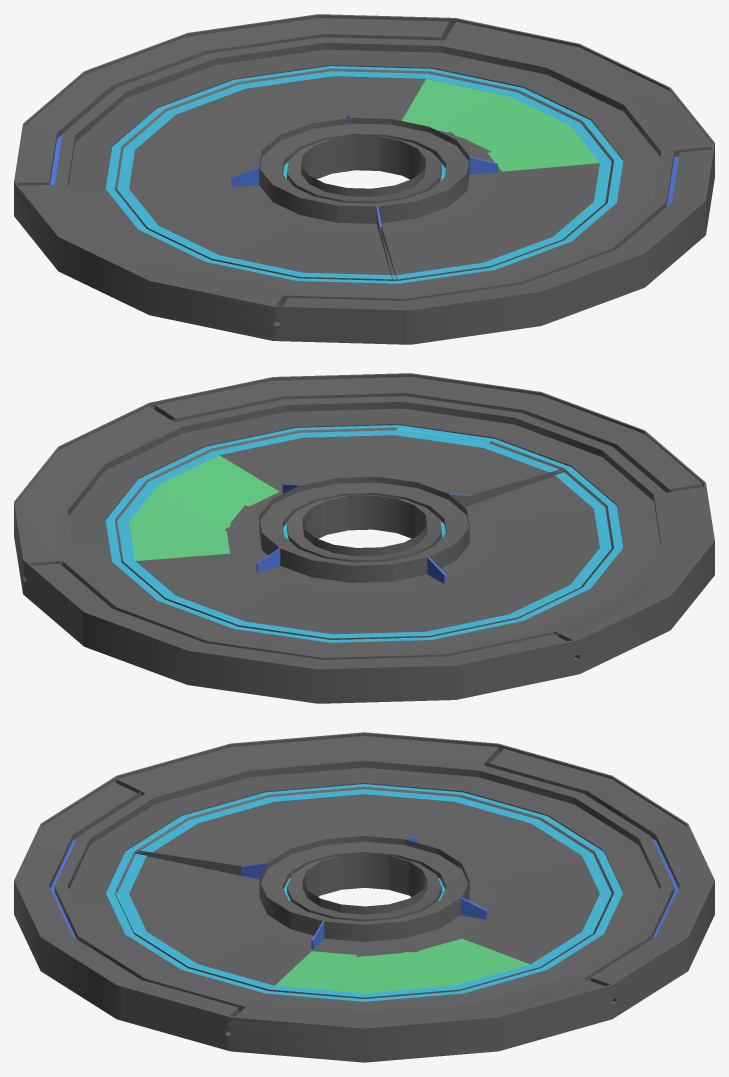
Rendered from Disco5k.fbx.
3 views of the same model, one above another, from view 1: azimuth 30°, elevation 25°; view 2: azimuth 150°, elevation 25°; view 3: azimuth 270°, elevation 25° (orthographic).
Visible parts, largest first — view 1: Disco_5k; view 2: Disco_5k; view 3: Disco_5k.
Part boxes in pixels (x1=…): Disco_5k: x1=14, y1=14, x2=714, y2=344; Disco_5k: x1=14, y1=373, x2=714, y2=703; Disco_5k: x1=14, y1=732, x2=714, y2=1062.
Bounding box in the file's own units: 31.67 × 1.7 × 31.67.
